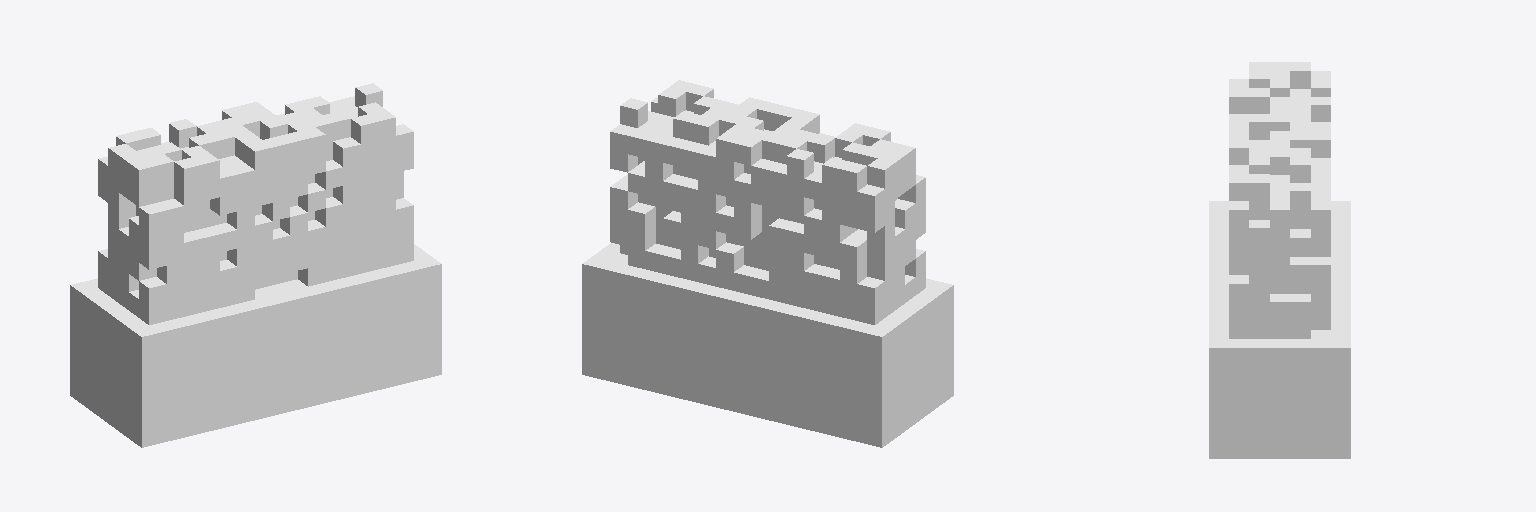
The model's file is misc:planted-bush.obj.
3 views of the same model, side by side, from view 1: azimuth 30°, elevation 25°; view 2: azimuth 150°, elevation 25°; view 3: azimuth 270°, elevation 25° (orthographic).
Visible parts, largest first — view 1: misc:planted-bush; view 2: misc:planted-bush; view 3: misc:planted-bush.
Boxes of the visible parts, <box> form: misc:planted-bush: <box>70,83,441,447</box>; misc:planted-bush: <box>582,80,953,447</box>; misc:planted-bush: <box>1209,62,1350,458</box>.
Size of the model in its own units: 17 by 14 by 7.